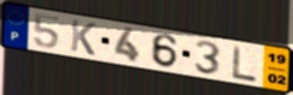3: (193, 39, 223, 76)
4: (113, 26, 142, 65)
5: (32, 12, 61, 50)
6: (150, 33, 182, 71)
K: (69, 17, 98, 57)
L: (231, 43, 259, 84)
